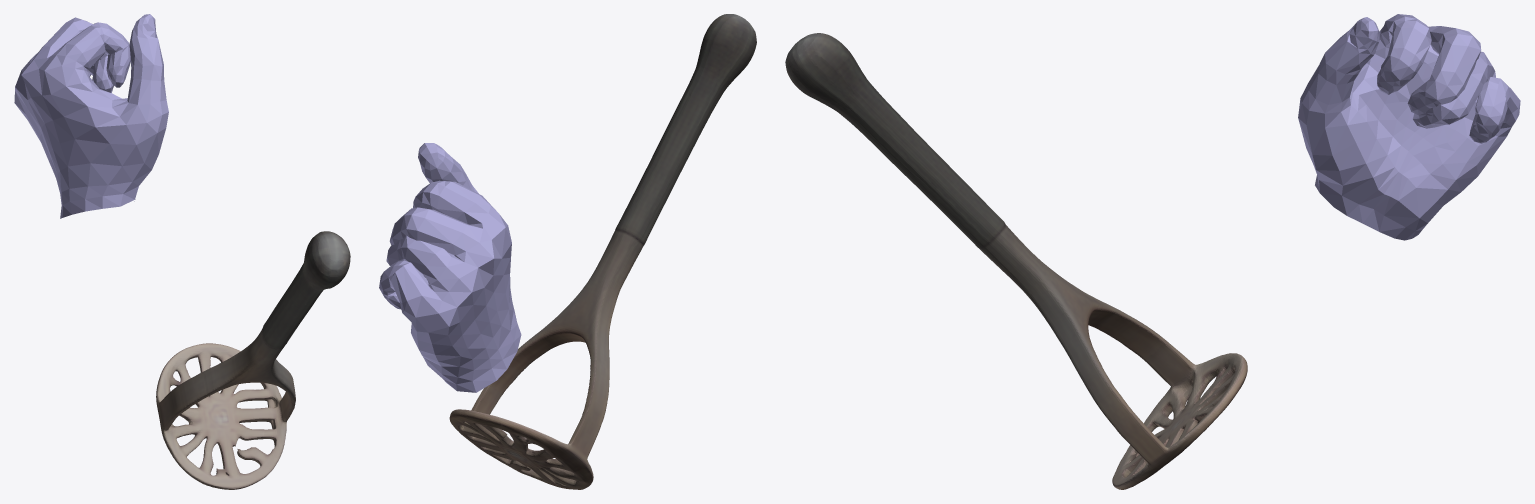
The model's file is frame_0087_source_000087_hand_object.glb.
The picture shows the model from 3 angles, left to right: view 1: azimuth 30°, elevation 25°; view 2: azimuth 150°, elevation 25°; view 3: azimuth 270°, elevation 25°; orthographic projection. The views are drawn at different scales.
Visible parts, largest first — view 1: world; view 2: world; view 3: world.
Boxes of the visible parts, x1,y1,x2,y2 form: world: [14, 14, 350, 489]; world: [379, 14, 756, 489]; world: [785, 14, 1520, 489].
Size of the model in its own units: 0.0911 by 0.2346 by 0.334.
